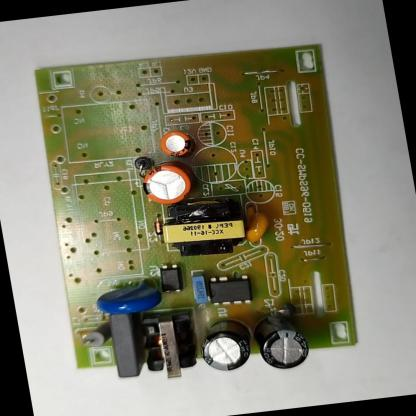Cap1: (138, 159, 196, 207)
Cap2: (157, 129, 193, 159)
Cap3: (194, 315, 256, 374)
Cap4: (250, 312, 313, 372)
MOSFET: (205, 272, 255, 308)
Mov: (92, 276, 166, 318)
Resistor: (81, 322, 113, 348)
Transformer: (158, 196, 250, 260), (136, 310, 203, 382)
